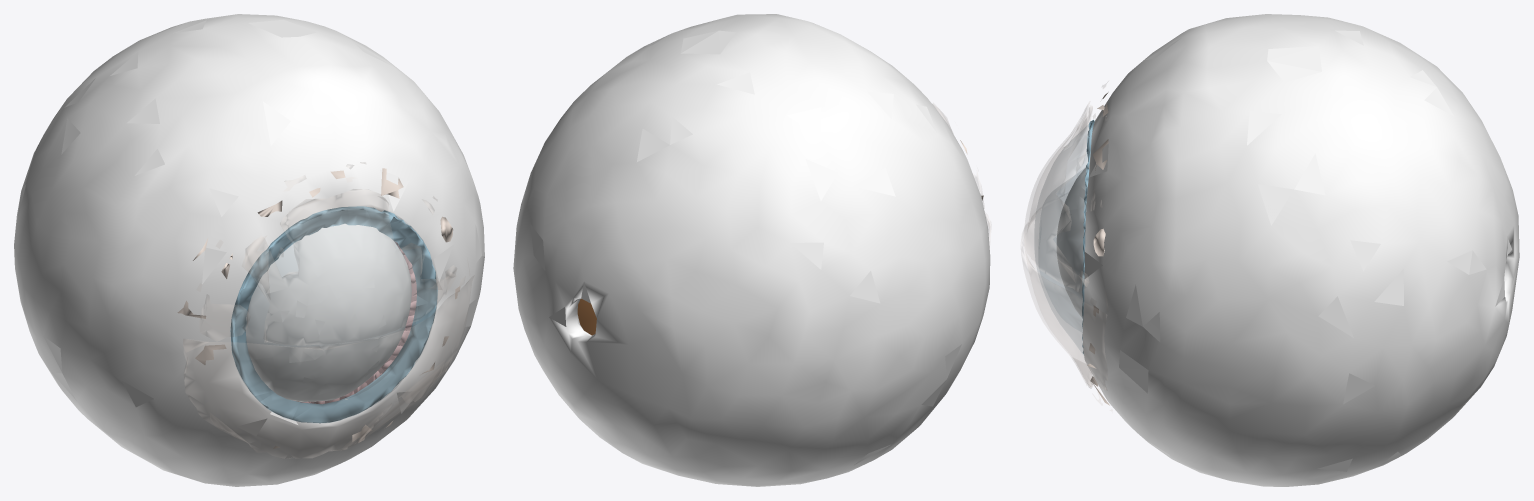
File: 3d-vh-m-eye-r_lod_20.glb
The picture shows the model from 3 angles, left to right: view 1: azimuth 30°, elevation 25°; view 2: azimuth 150°, elevation 25°; view 3: azimuth 270°, elevation 25°; orthographic projection.
Parts seen in each view (by area): view 1: VH_M_sclera_R, VH_M_cornea_R, VH_M_palpebral_conjunctiva_of_lower_eyelid_R, VH_M_aqueous_humor_R, VH_M_palpebral_conjunctiva_of_upper_eyelid_R, VH_M_corneo_scleral_junction_R, VH_M_bulbar_conjunctiva_R, VH_M_ciliary_muscle_R; view 2: VH_M_sclera_R, VH_M_optic_choroid_R; view 3: VH_M_sclera_R, VH_M_cornea_R, VH_M_palpebral_conjunctiva_of_upper_eyelid_R, VH_M_palpebral_conjunctiva_of_lower_eyelid_R, VH_M_aqueous_humor_R, VH_M_bulbar_conjunctiva_R, VH_M_corneo_scleral_junction_R.
Boxes of the visible parts, bbox=[...] form: VH_M_sclera_R: bbox=[14, 14, 484, 486]; VH_M_cornea_R: bbox=[233, 208, 437, 422]; VH_M_palpebral_conjunctiva_of_lower_eyelid_R: bbox=[183, 276, 473, 457]; VH_M_aqueous_humor_R: bbox=[245, 224, 411, 401]; VH_M_palpebral_conjunctiva_of_upper_eyelid_R: bbox=[197, 162, 469, 344]; VH_M_corneo_scleral_junction_R: bbox=[230, 206, 437, 423]; VH_M_bulbar_conjunctiva_R: bbox=[177, 168, 460, 448]; VH_M_ciliary_muscle_R: bbox=[294, 241, 416, 403]; VH_M_sclera_R: bbox=[513, 14, 990, 486]; VH_M_optic_choroid_R: bbox=[577, 298, 596, 335]; VH_M_sclera_R: bbox=[1082, 14, 1519, 486]; VH_M_cornea_R: bbox=[1035, 122, 1092, 354]; VH_M_palpebral_conjunctiva_of_upper_eyelid_R: bbox=[1024, 82, 1107, 311]; VH_M_palpebral_conjunctiva_of_lower_eyelid_R: bbox=[1021, 220, 1112, 410]; VH_M_aqueous_humor_R: bbox=[1056, 168, 1086, 317]; VH_M_bulbar_conjunctiva_R: bbox=[1087, 92, 1109, 405]; VH_M_corneo_scleral_junction_R: bbox=[1082, 119, 1094, 353].
Size of the model in its own units: 0.0244 by 0.0244 by 0.0257.
